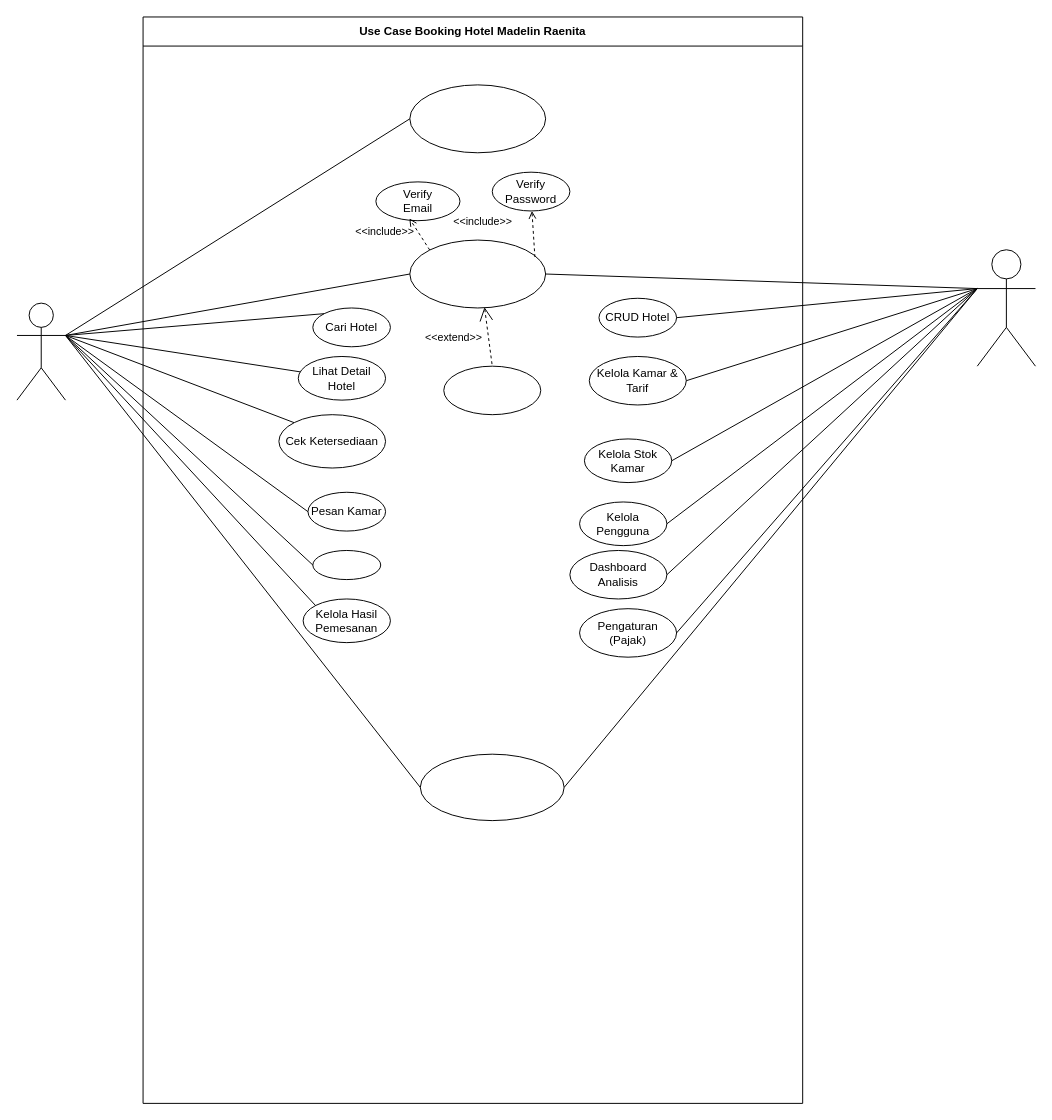
The diagram is 1052 pixels wide and 1120 high, and some of its shapes have lost their labels. The centre of each missing label's shape, as x and y in pixels:
Admin: (1005,307)
Display Login Error: (492,390)
Log Out: (491,787)
Login: (477,273)
Penyewa: (40,351)
Register: (477,118)
Transaksi: (346,565)
